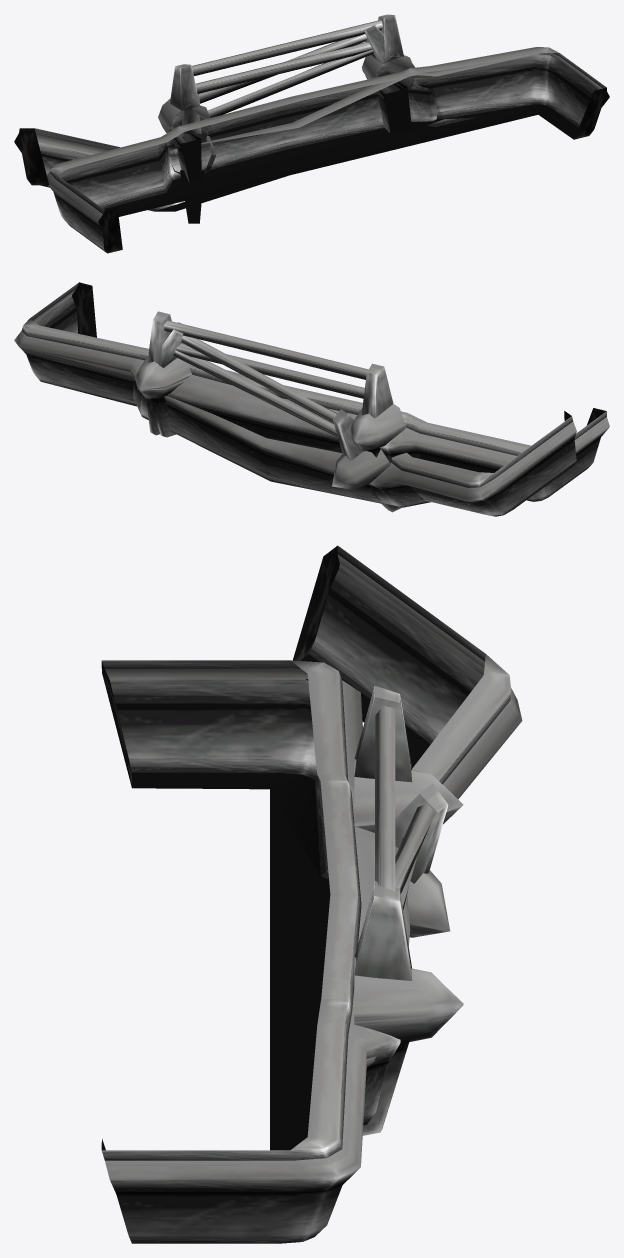
Rendered from fbmp_lr_sv2.glb.
3 renders of one model, top to bottom at view 1: azimuth 30°, elevation 25°; view 2: azimuth 150°, elevation 25°; view 3: azimuth 270°, elevation 25°, orthographic. The views are drawn at different scales.
Parts seen in each view (by area): view 1: fbmp_lr_sv2, fbmp_lr_sv2_dam; view 2: fbmp_lr_sv2, fbmp_lr_sv2_dam; view 3: fbmp_lr_sv2, fbmp_lr_sv2_dam.
Part boxes in pixels (x1,y1,x2,y2): fbmp_lr_sv2: (46, 14, 609, 253); fbmp_lr_sv2_dam: (14, 25, 541, 223); fbmp_lr_sv2: (14, 282, 609, 501); fbmp_lr_sv2_dam: (19, 322, 576, 516); fbmp_lr_sv2: (101, 660, 463, 1243); fbmp_lr_sv2_dam: (292, 545, 522, 1166).
Size of the model in its own units: 2.56 by 0.6621 by 0.8652.
Materials: 2 (2 with a texture image).
